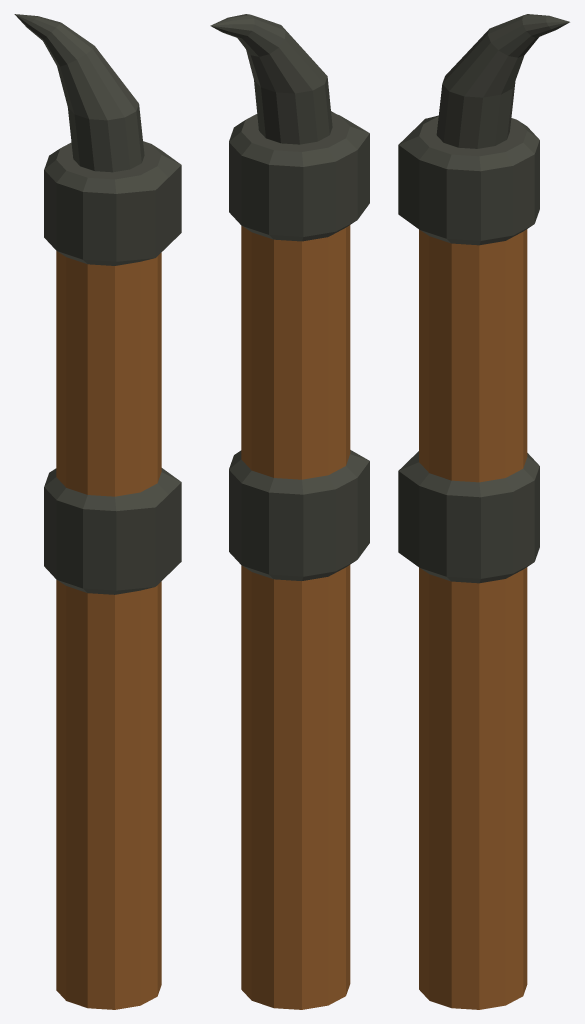
File: spike 1.fbx
3 views of the same model, side by side, from view 1: azimuth 90°, elevation 25°; view 2: azimuth 150°, elevation 25°; view 3: azimuth 270°, elevation 25° (orthographic). The views are drawn at different scales.
Visible parts, largest first — view 1: Cylinder.059; view 2: Cylinder.059; view 3: Cylinder.059.
Boxes of the visible parts, <box> form: Cylinder.059: <box>14,14,181,1009</box>; Cylinder.059: <box>210,14,369,1009</box>; Cylinder.059: <box>398,14,569,1009</box>.
Size of the model in its own units: 0.4196 by 3.42 by 0.5423.
